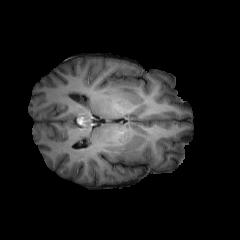glioma: (115, 83, 153, 161)
